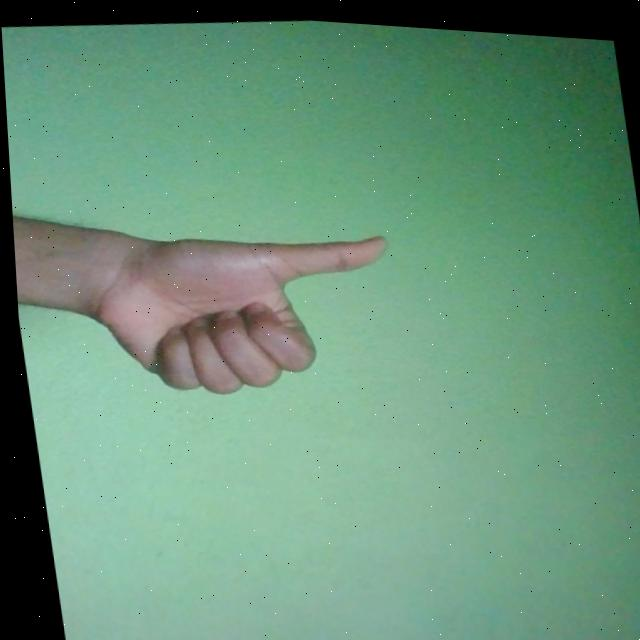Good Job: (72, 212, 404, 412)
